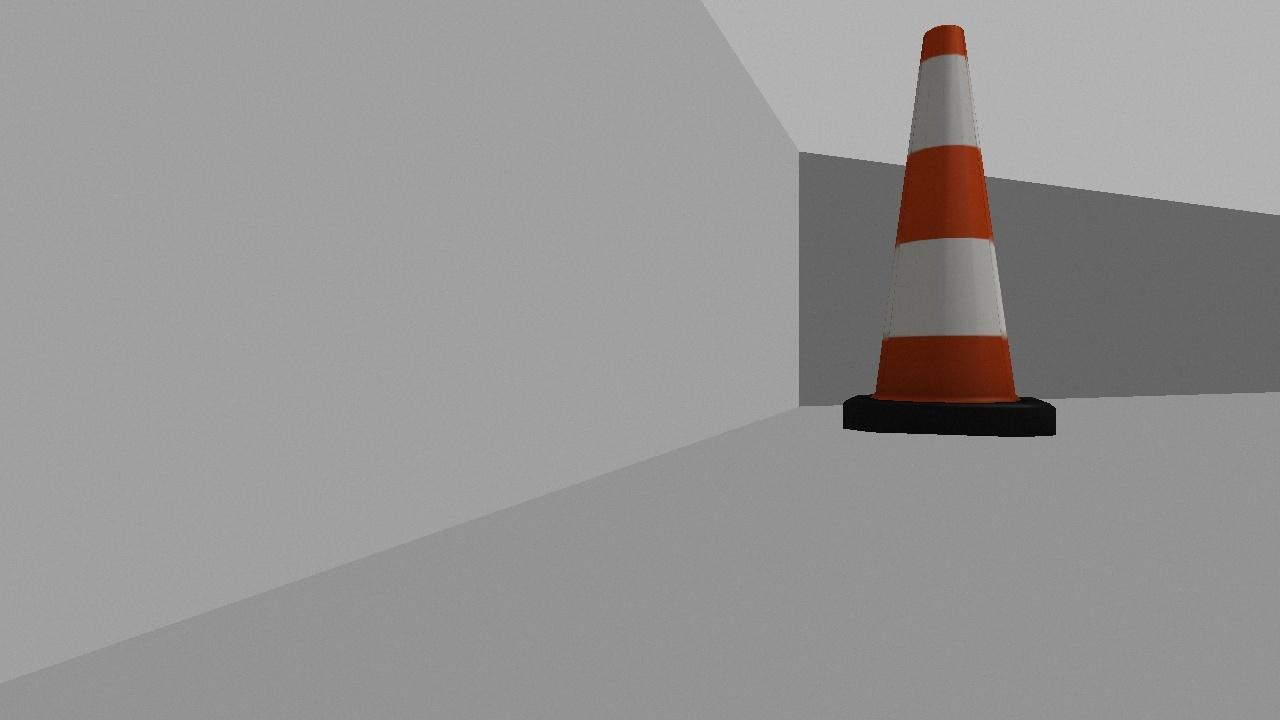cone_barrel: (840, 20, 1056, 436)
